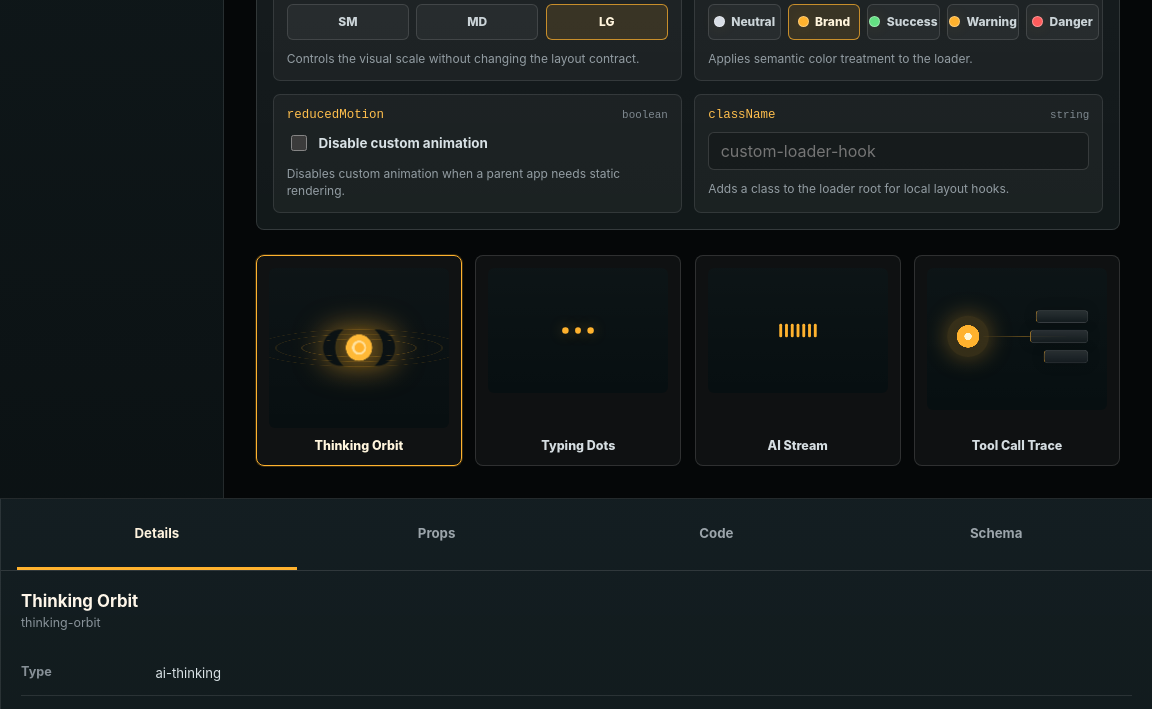
Test: gallery app › changes selected loader from the variant strip
(page scrolled)
What coordinates should you click on to do the following:
click the link "Typing Dots"
I would click on:
 (578, 360)
Its box is [475, 255, 681, 466].
(page scrolled)
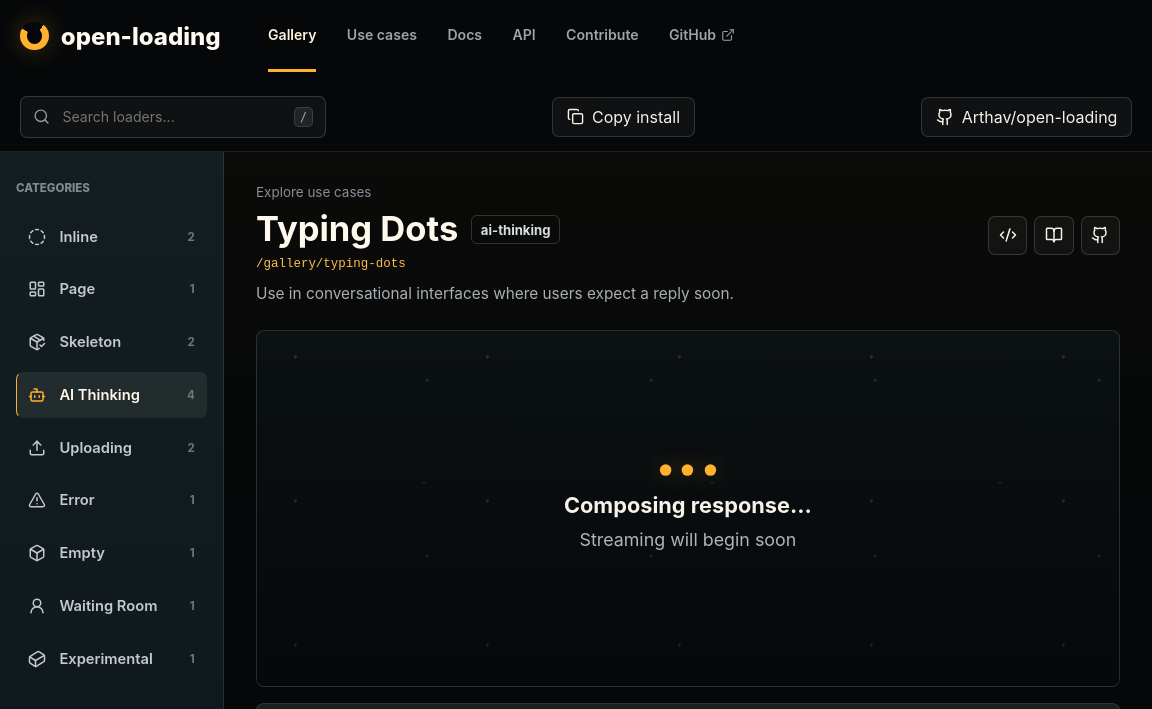
Check: the heading "Typing Dots" is shown, box [256, 212, 458, 247]
Check: the message named "Typing dots loading state" shows "Composing response...", box [564, 493, 812, 518]
Check: the link "/gallery/typing-dots" is shown, box [256, 257, 406, 271]
